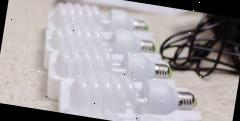lightbulb: (32, 0, 213, 121), (55, 62, 200, 121)
